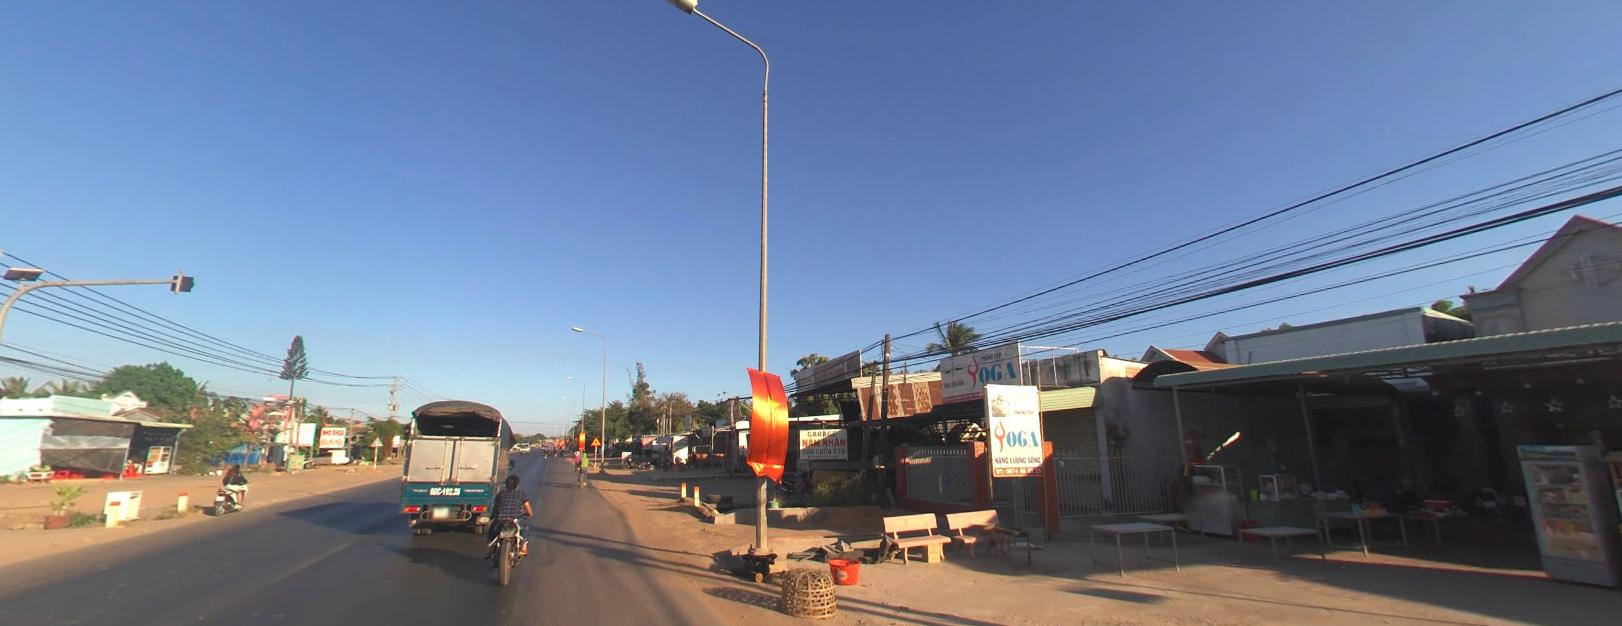Nguy hiem: (589, 433, 601, 444)
